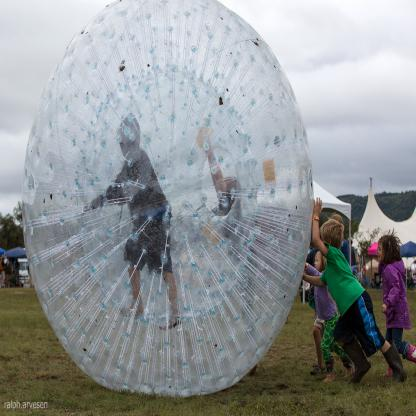Ball: (22, 0, 315, 398)
